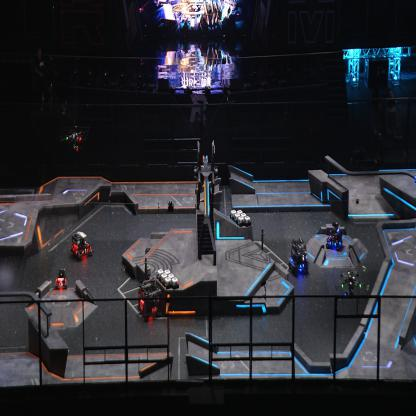car: (137, 276, 162, 320), (286, 237, 309, 274), (70, 230, 93, 260), (325, 221, 344, 250), (54, 268, 68, 290)
